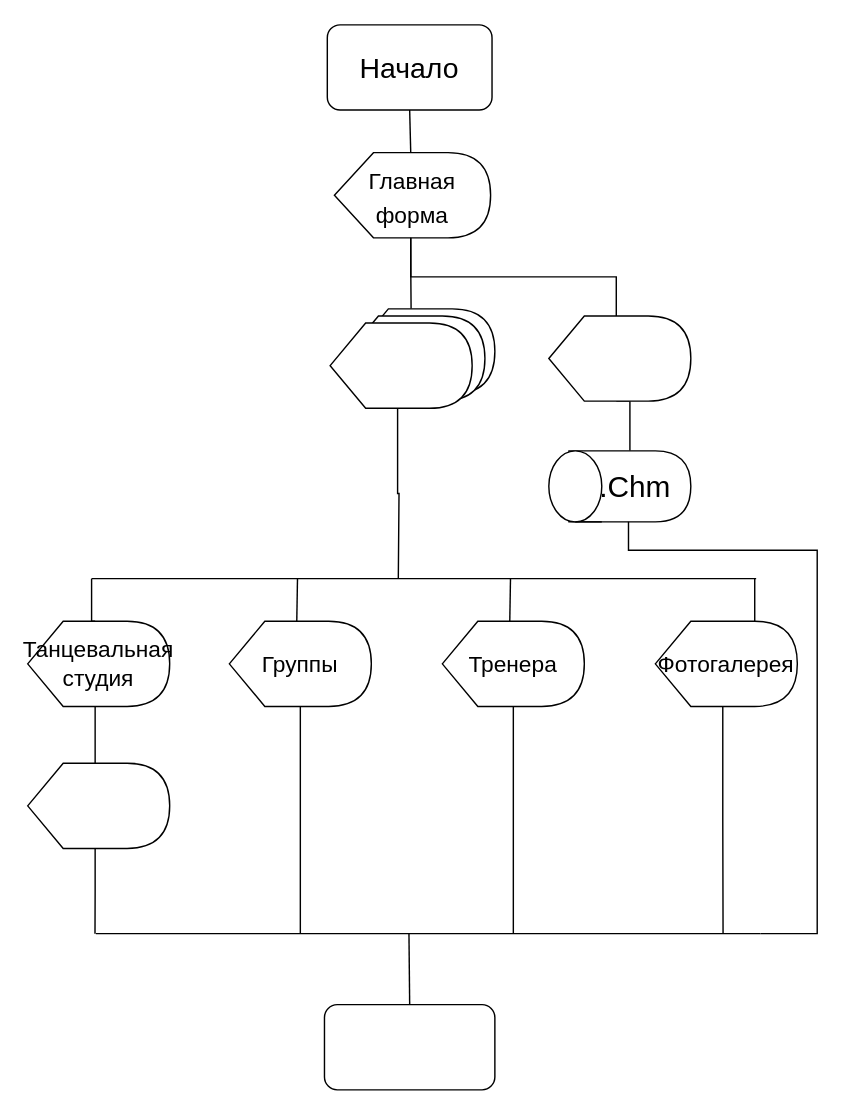
Some shapes in this 843 by 1115 pixel diagram are drawn without their labels. Each missing label, with the box of its shape:
Выбор направления: (329, 322, 472, 408)
Конец: (323, 1003, 495, 1090)
Направления: (26, 762, 170, 848)
Справка: (547, 315, 691, 401)
